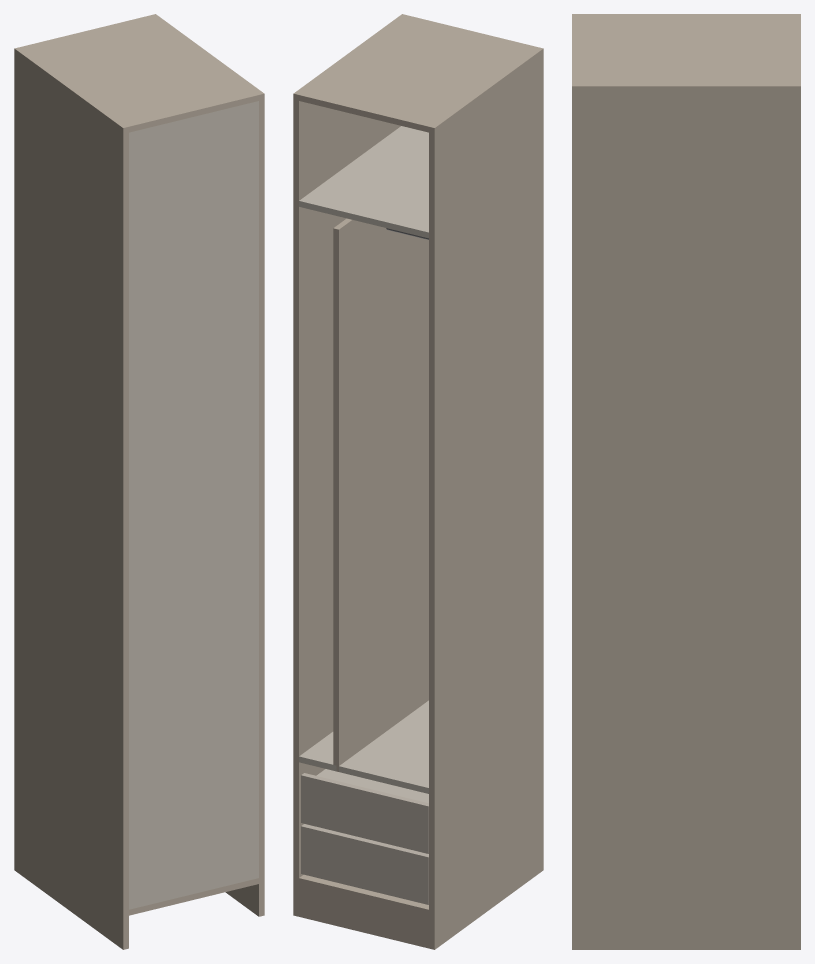
3 renders of one model, left to right at view 1: azimuth 30°, elevation 25°; view 2: azimuth 150°, elevation 25°; view 3: azimuth 270°, elevation 25°, orthographic. The views are drawn at different scales.
Parts seen in each view (by area): view 1: 004_ARKALIK, 000_GOVDE_SOL, 002_GOVDE_UST, 001_GOVDE_SAG, 003_GOVDE_ALT; view 2: 000_GOVDE_SOL, 006_DAR_DIKME, 001_GOVDE_SAG, 002_GOVDE_UST, 008_RAF_2, 009_CEKMECE_ON_1, 011_CEKMECE_ON_2, 007_RAF_1, 005_BAZA, 003_GOVDE_ALT, 012_CEKMECE_KUTU_2; view 3: 001_GOVDE_SAG, 002_GOVDE_UST, 000_GOVDE_SOL.
Part boxes in pixels (box(x1,y1,x2,y2)): 004_ARKALIK: box(129, 101, 258, 909); 000_GOVDE_SOL: box(14, 47, 128, 949); 002_GOVDE_UST: box(20, 15, 258, 132); 001_GOVDE_SAG: box(150, 14, 264, 916); 003_GOVDE_ALT: box(129, 878, 258, 915); 000_GOVDE_SOL: box(429, 47, 543, 949); 006_DAR_DIKME: box(333, 218, 428, 771); 001_GOVDE_SAG: box(293, 14, 407, 916); 002_GOVDE_UST: box(299, 15, 537, 132); 008_RAF_2: box(299, 126, 428, 238); 009_CEKMECE_ON_1: box(301, 824, 428, 904); 011_CEKMECE_ON_2: box(301, 773, 428, 853); 007_RAF_1: box(299, 700, 428, 793); 005_BAZA: box(299, 884, 428, 948); 003_GOVDE_ALT: box(299, 874, 428, 915); 012_CEKMECE_KUTU_2: box(316, 769, 428, 803); 001_GOVDE_SAG: box(572, 83, 800, 949); 002_GOVDE_UST: box(572, 17, 800, 83); 000_GOVDE_SOL: box(572, 14, 800, 16).
Bounding box in the file's own units: 0.45 × 2.5 × 0.6.
